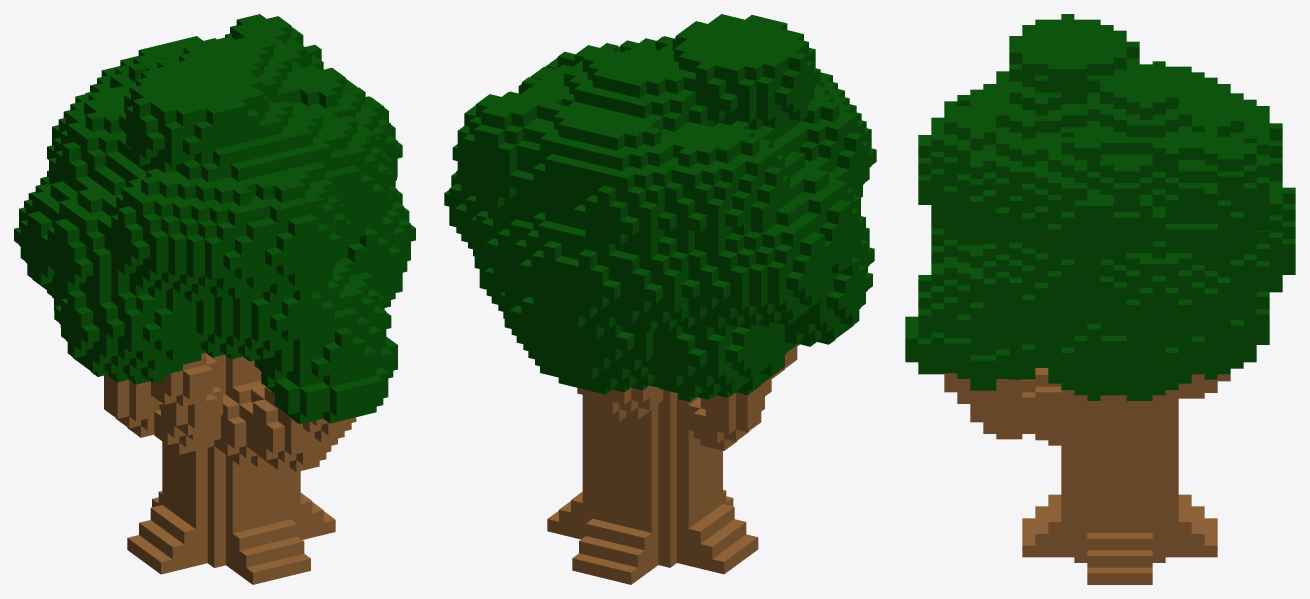
The model's file is Tree1.dae.
3 views of the same model, side by side, from view 1: azimuth 30°, elevation 25°; view 2: azimuth 150°, elevation 25°; view 3: azimuth 270°, elevation 25° (orthographic). The views are drawn at different scales.
Parts seen in each view (by area): view 1: tree1.merged; view 2: tree1.merged; view 3: tree1.merged.
Boxes of the visible parts, x1,y1,x2,y2 form: tree1.merged: (14,14,415,584); tree1.merged: (444,14,876,584); tree1.merged: (905,14,1295,584).
Bounding box in the file's own units: 3 × 4 × 3.
1 material, 1 textured.
